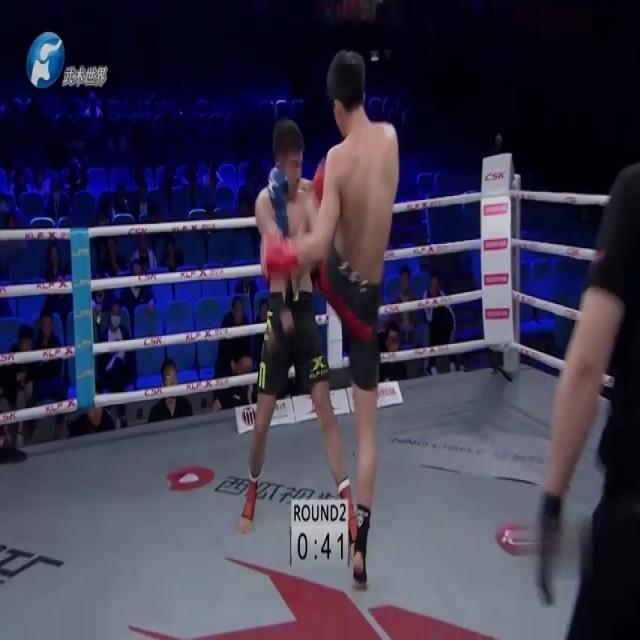fight: (236, 39, 416, 598)
non-fight: (22, 309, 70, 442), (208, 293, 254, 411), (95, 306, 140, 422), (146, 358, 195, 426)
